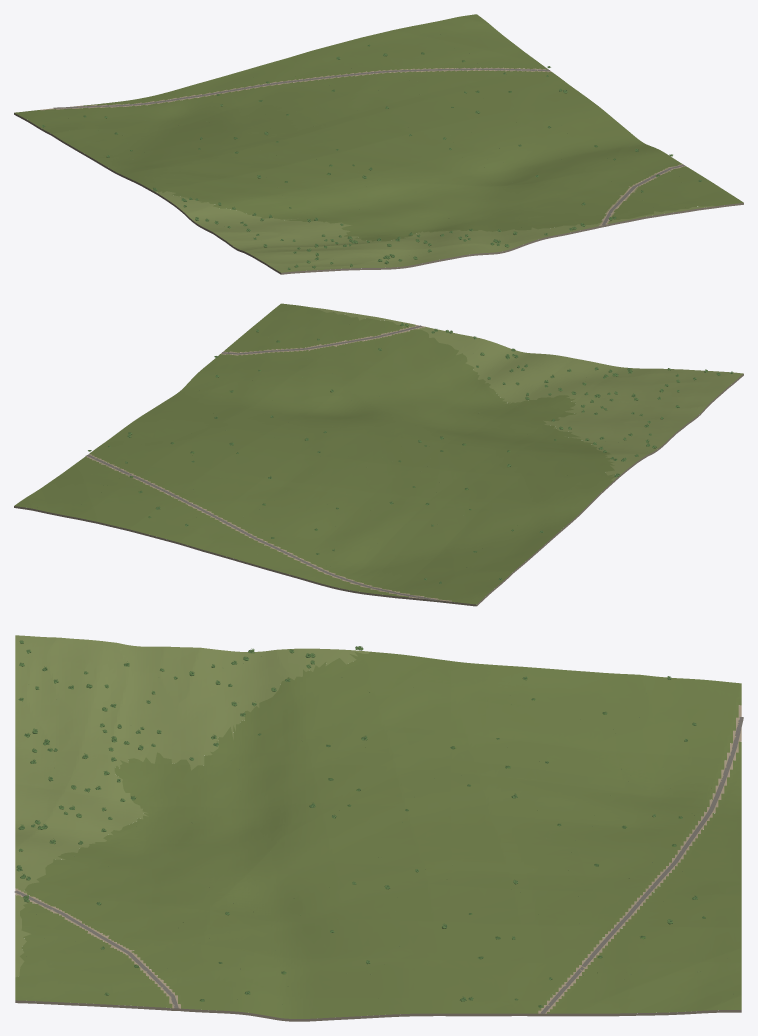
File: parca_+11_-3-yakin.glb
3 renders of one model, top to bottom at view 1: azimuth 30°, elevation 25°; view 2: azimuth 150°, elevation 25°; view 3: azimuth 270°, elevation 25°, orthographic. The views are drawn at different scales.
Visible parts, largest first — view 1: parca_+11_-3_arazi, parca_+11_-3_bitkiler, parca_+11_-3_yollar; view 2: parca_+11_-3_arazi, parca_+11_-3_bitkiler, parca_+11_-3_yollar; view 3: parca_+11_-3_arazi, parca_+11_-3_bitkiler, parca_+11_-3_yollar.
Boxes of the visible parts, x1,y1,x2,y2 form: parca_+11_-3_arazi: (14,14,743,274); parca_+11_-3_bitkiler: (42,34,701,269); parca_+11_-3_yollar: (53,68,685,225); parca_+11_-3_arazi: (14,303,743,606); parca_+11_-3_bitkiler: (81,322,732,583); parca_+11_-3_yollar: (86,325,437,600); parca_+11_-3_arazi: (15,635,741,1021); parca_+11_-3_bitkiler: (16,640,733,1007); parca_+11_-3_yollar: (14,717,743,1013).
Bounding box in the file's own units: 1005 × 123 × 1005.
